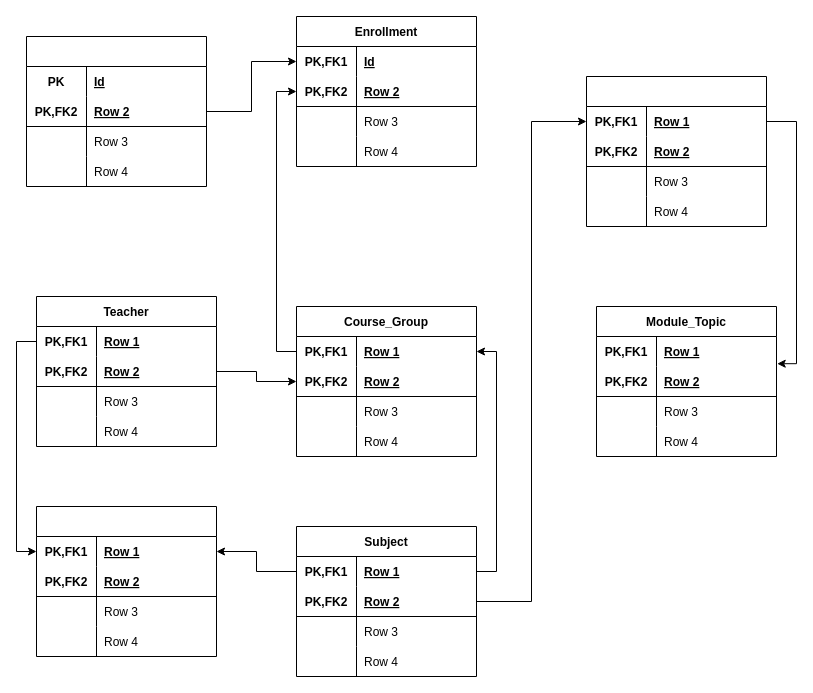
Image size: 813x693. Some labels were removed from this diagram. The box of each missing label's shape, as (x1, y1, x2, y2) in pixels:
Assignment: (36, 506, 216, 656)
Module: (586, 76, 766, 226)
Student: (26, 36, 206, 186)
